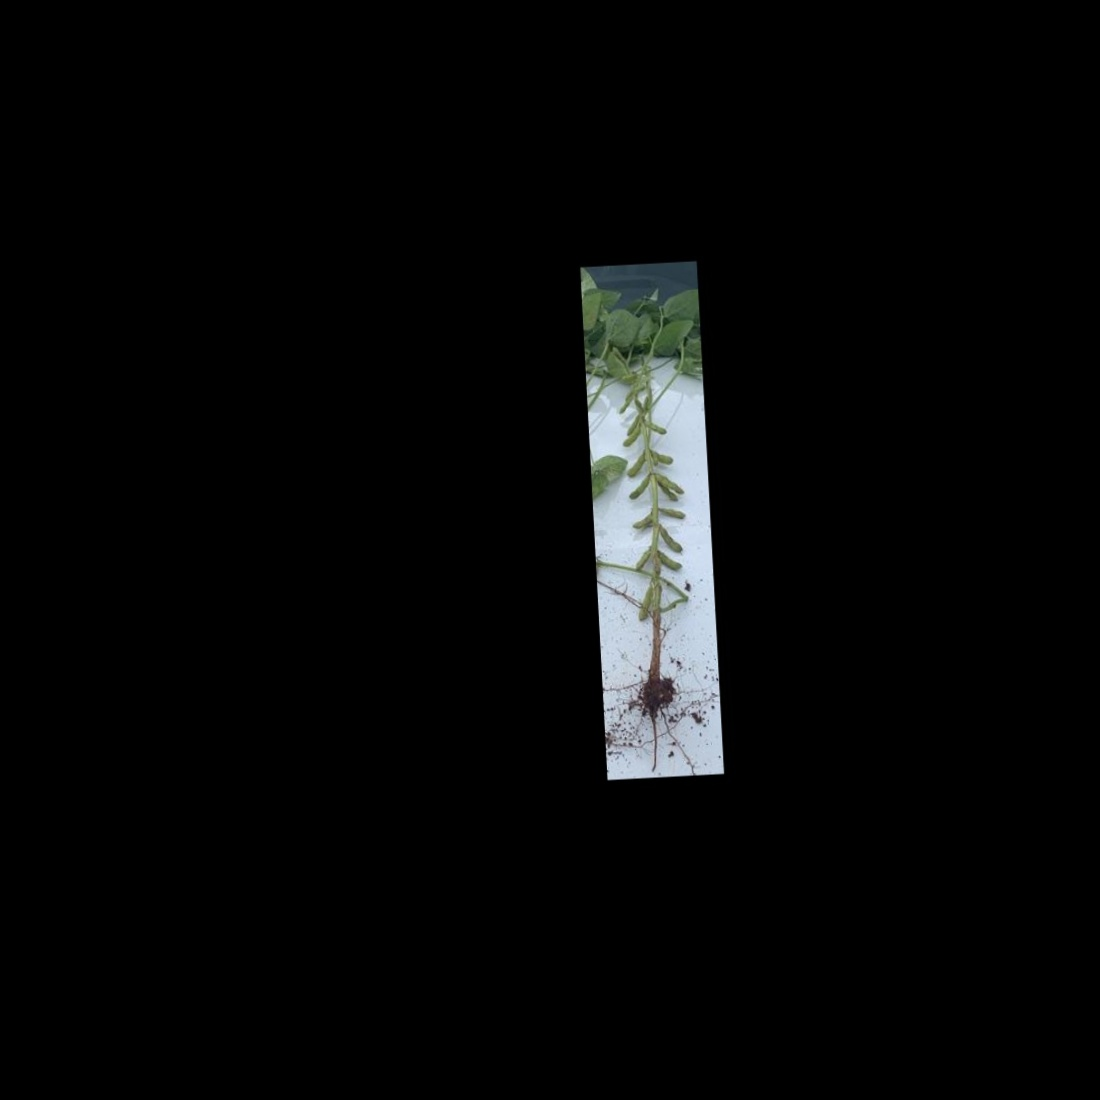pod: (655, 521, 685, 554), (625, 471, 654, 503), (655, 468, 686, 496), (632, 587, 654, 623), (621, 418, 645, 450), (631, 545, 655, 574), (655, 506, 692, 523), (658, 551, 683, 574), (627, 512, 655, 531), (653, 447, 677, 465), (649, 417, 667, 435)
soy: (586, 295, 714, 722)
